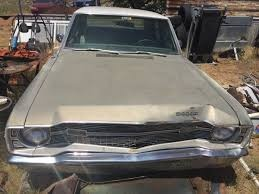Dent: (159, 104, 231, 130)
